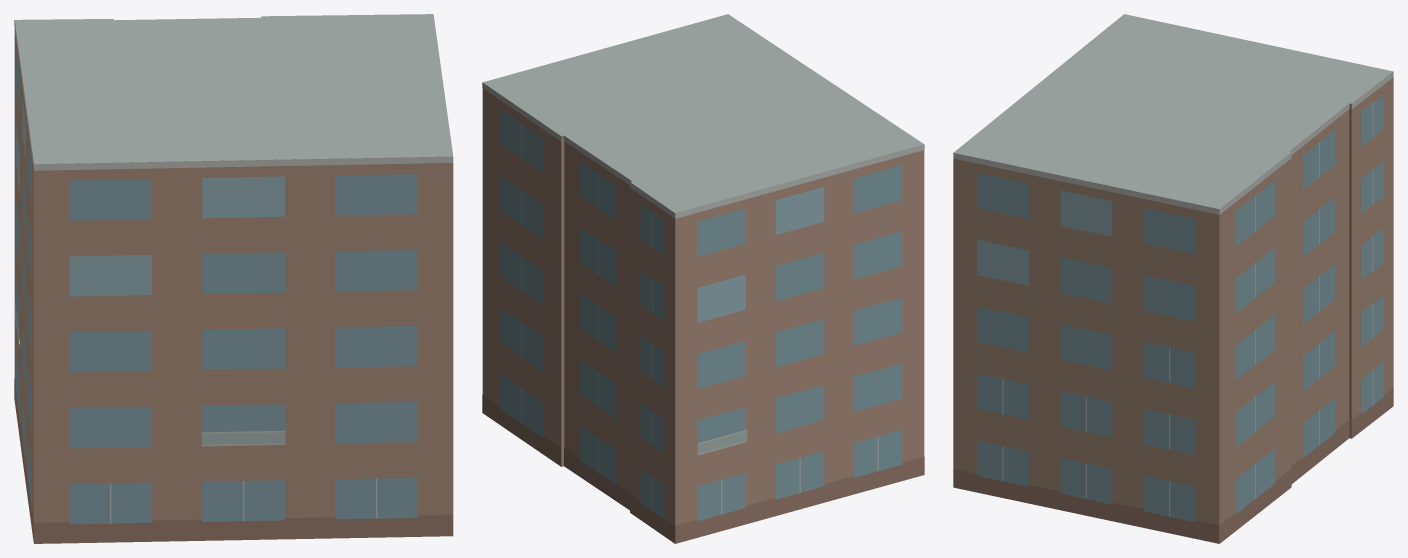
Rendered from survey-upis-32658457.glb.
3 views of the same model, side by side, from view 1: azimuth 30°, elevation 25°; view 2: azimuth 150°, elevation 25°; view 3: azimuth 270°, elevation 25° (orthographic). The views are drawn at different scales.
Parts seen in each view (by area): view 1: survey-upis-32658457.tmp; view 2: survey-upis-32658457.tmp; view 3: survey-upis-32658457.tmp.
Part boxes in pixels (x1,y1,x2,y2): survey-upis-32658457.tmp: (14, 14, 453, 543); survey-upis-32658457.tmp: (482, 14, 924, 543); survey-upis-32658457.tmp: (953, 14, 1393, 543).
Size of the model in its own units: 18.02 by 14.4 by 17.17.
